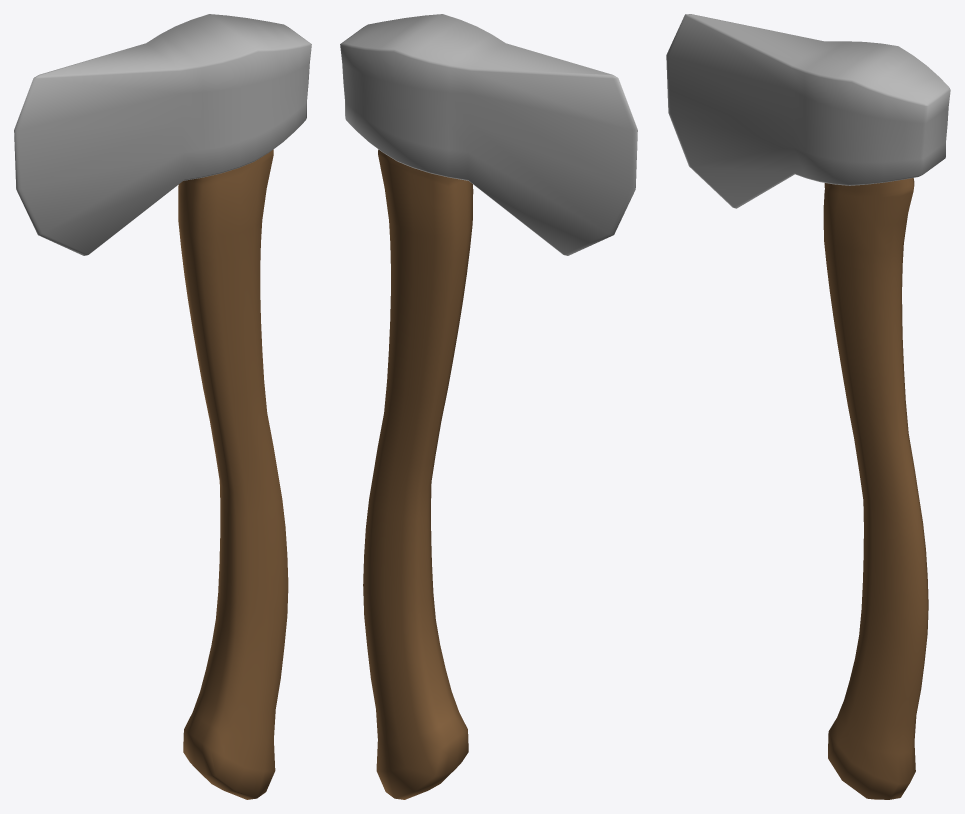
Rendered from AxeHighPoly.fbx.
3 renders of one model, left to right at view 1: azimuth 30°, elevation 25°; view 2: azimuth 150°, elevation 25°; view 3: azimuth 330°, elevation 25°, orthographic. The views are drawn at different scales.
Visible parts, largest first — view 1: AxeHandle.002; view 2: AxeHandle.002; view 3: AxeHandle.002.
Part boxes in pixels (x1=…): AxeHandle.002: x1=14, y1=14, x2=311, y2=799; AxeHandle.002: x1=340, y1=14, x2=637, y2=799; AxeHandle.002: x1=666, y1=14, x2=950, y2=799.
Size of the model in its own units: 92.12 by 237 by 28.23.
